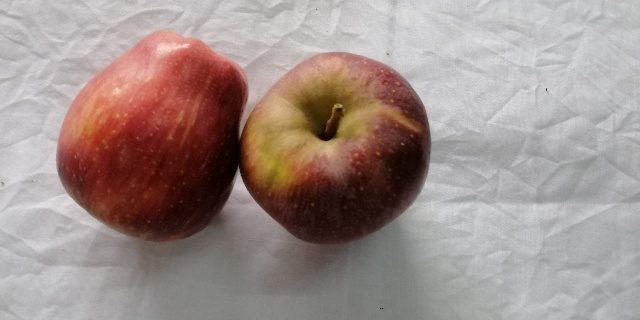apple_kashmir: (56, 19, 239, 247), (239, 52, 432, 243)
